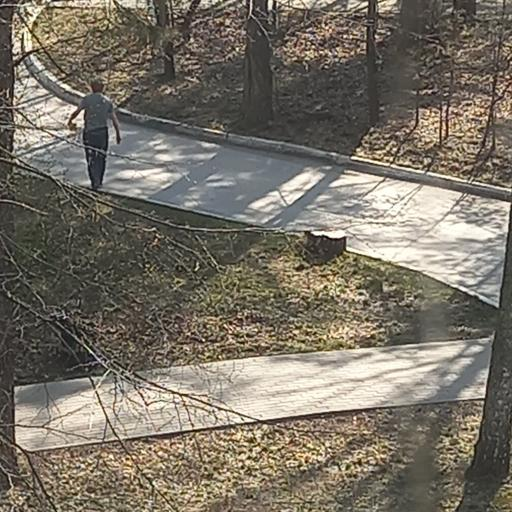Humans: (78, 73, 122, 214)
